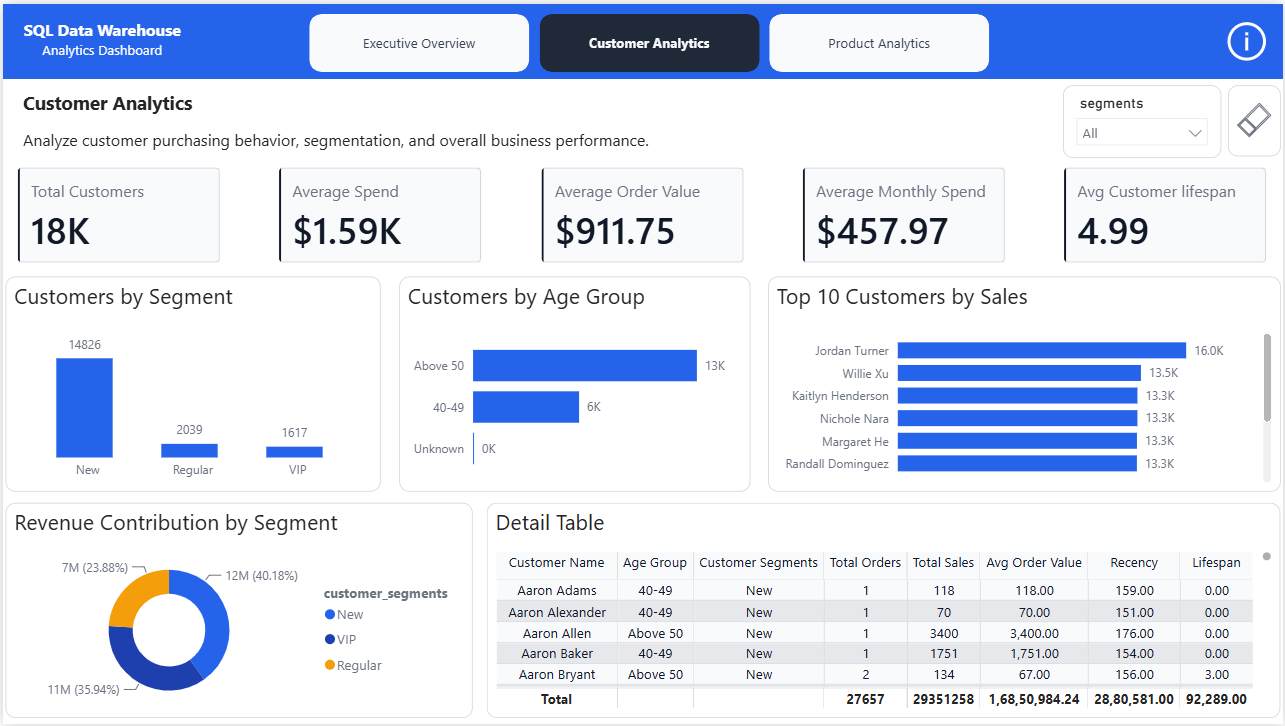

Layout of this report page (visuals, bound fields, positions):
{"tool":"powerbi","page":{"name":"Customer Analytics","canvas":[1280,720],"ordinal":1},"visuals":[{"type":"shape","box":[0,0,1280,75],"z":0},{"type":"textbox","box":[9.7,81,194.2,36.2],"z":1000},{"type":"textbox","box":[10,120,652.5,33.8],"z":2000},{"type":"cardVisual","fields":{"Data":["_Measures.Total Customers"]},"box":[10,159.4,212.5,105],"z":3000},{"type":"cardVisual","fields":{"Data":["_Measures.Average Customer Spend"]},"box":[271.6,159.4,212.5,105],"z":4000},{"type":"cardVisual","fields":{"Data":["_Measures.Customer Average Order Value"]},"box":[533.1,159.4,212.5,105],"z":5000},{"type":"cardVisual","fields":{"Data":["_Measures.Average Monthly Spend"]},"box":[794.7,159.4,212.5,105],"z":6000},{"type":"cardVisual","fields":{"Data":["_Measures.Average lifespan"]},"box":[1056.2,159.4,212.5,105],"z":7000},{"type":"clusteredColumnChart","title":"Customers by Segment","fields":{"Category":["Customer Report.customer_segments"],"Y":["CountNonNull(Customer Report.customer_number)"]},"box":[2.5,272.5,375,215],"z":8000},{"type":"donutChart","title":"Revenue Contribution by Segment","fields":{"Category":["Customer Report.customer_segments"],"Y":["Sum(Customer Report.total_sales)"]},"box":[2.5,498.8,467.5,215],"z":9000},{"type":"clusteredBarChart","title":"Customers by Age Group","fields":{"Category":["Customer Report.age_group"],"Y":["CountNonNull(Customer Report.customer_number)"]},"box":[395.6,272.5,351.2,215],"z":10000},{"type":"tableEx","title":"Detail Table","fields":{"Values":["Customer Report.customer_name","Customer Report.age_group","Customer Report.customer_segments","Sum(Customer Report.total_orders)","Sum(Customer Report.total_sales)","Sum(Customer Report.avg_order_value)","Sum(Customer Report.recency)","Sum(Customer Report.lifespan)"]},"box":[483.8,498.8,793.8,215],"z":11000},{"type":"slicer","fields":{"Values":["Customer Report.customer_segments"]},"box":[1060,81.2,158.8,72.5],"z":12000},{"type":"actionButton","box":[1225,81.5,52.5,71.2],"z":13000},{"type":"pageNavigator","box":[306,10,682,58],"z":14000},{"type":"textbox","box":[10,10,178.8,58.8],"z":15000},{"type":"actionButton","box":[1218.8,10,50,55],"z":16000},{"type":"clusteredBarChart","title":"Top 10 Customers by Sales","fields":{"Category":["Customer Report.customer_name"],"Y":["Sum(Customer Report.total_sales)"]},"box":[765,272.5,512.5,215],"z":17000}]}

Visuals, with their boxes in screenshot pixels (x1, y1, x2, y2), scaled from the page's 1280x720 canvas onto the 1285x726 screenshot:
shape: crop(0, 0, 1284, 76)
textbox: crop(10, 82, 205, 118)
textbox: crop(10, 121, 665, 155)
cardVisual - _Measures.Total Customers: crop(10, 161, 223, 267)
cardVisual - _Measures.Average Customer Spend: crop(273, 161, 486, 267)
cardVisual - _Measures.Customer Average Order Value: crop(535, 161, 749, 267)
cardVisual - _Measures.Average Monthly Spend: crop(798, 161, 1011, 267)
cardVisual - _Measures.Average lifespan: crop(1060, 161, 1274, 267)
"Customers by Segment" clusteredColumnChart: crop(3, 275, 379, 492)
"Revenue Contribution by Segment" donutChart: crop(3, 503, 472, 720)
"Customers by Age Group" clusteredBarChart: crop(397, 275, 750, 492)
"Detail Table" tableEx: crop(486, 503, 1283, 720)
slicer - Customer Report.customer_segments: crop(1064, 82, 1224, 155)
actionButton: crop(1230, 82, 1282, 154)
pageNavigator: crop(307, 10, 992, 69)
textbox: crop(10, 10, 190, 69)
actionButton: crop(1224, 10, 1274, 66)
"Top 10 Customers by Sales" clusteredBarChart: crop(768, 275, 1282, 492)
